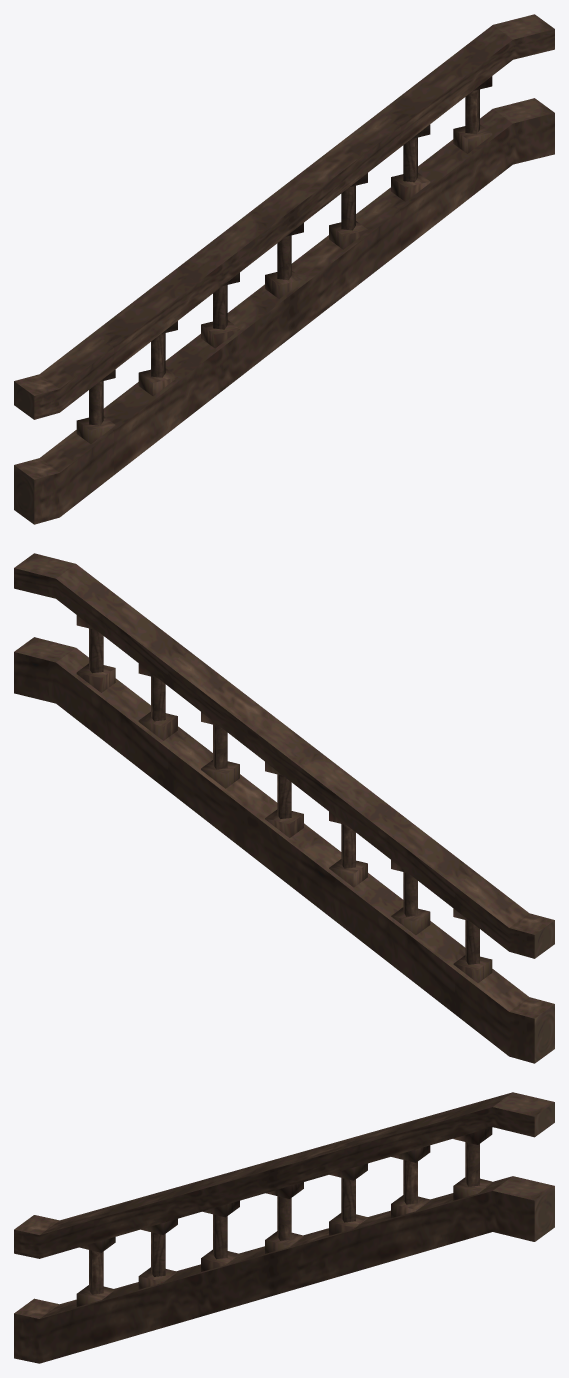
File: Stairs.L.Railing.fbx
3 renders of one model, top to bottom at view 1: azimuth 30°, elevation 25°; view 2: azimuth 150°, elevation 25°; view 3: azimuth 330°, elevation 25°, orthographic.
Parts seen in each view (by area): view 1: SM_Env_StairsRailing25M_Wood; view 2: SM_Env_StairsRailing25M_Wood; view 3: SM_Env_StairsRailing25M_Wood.
Part boxes in pixels (box(x1,y1,x2,y2)): SM_Env_StairsRailing25M_Wood: box(14, 14, 554, 524); SM_Env_StairsRailing25M_Wood: box(14, 553, 554, 1063); SM_Env_StairsRailing25M_Wood: box(14, 1092, 554, 1363).
Bounding box in the file's own units: 5.2 × 0.35 × 3.52.
